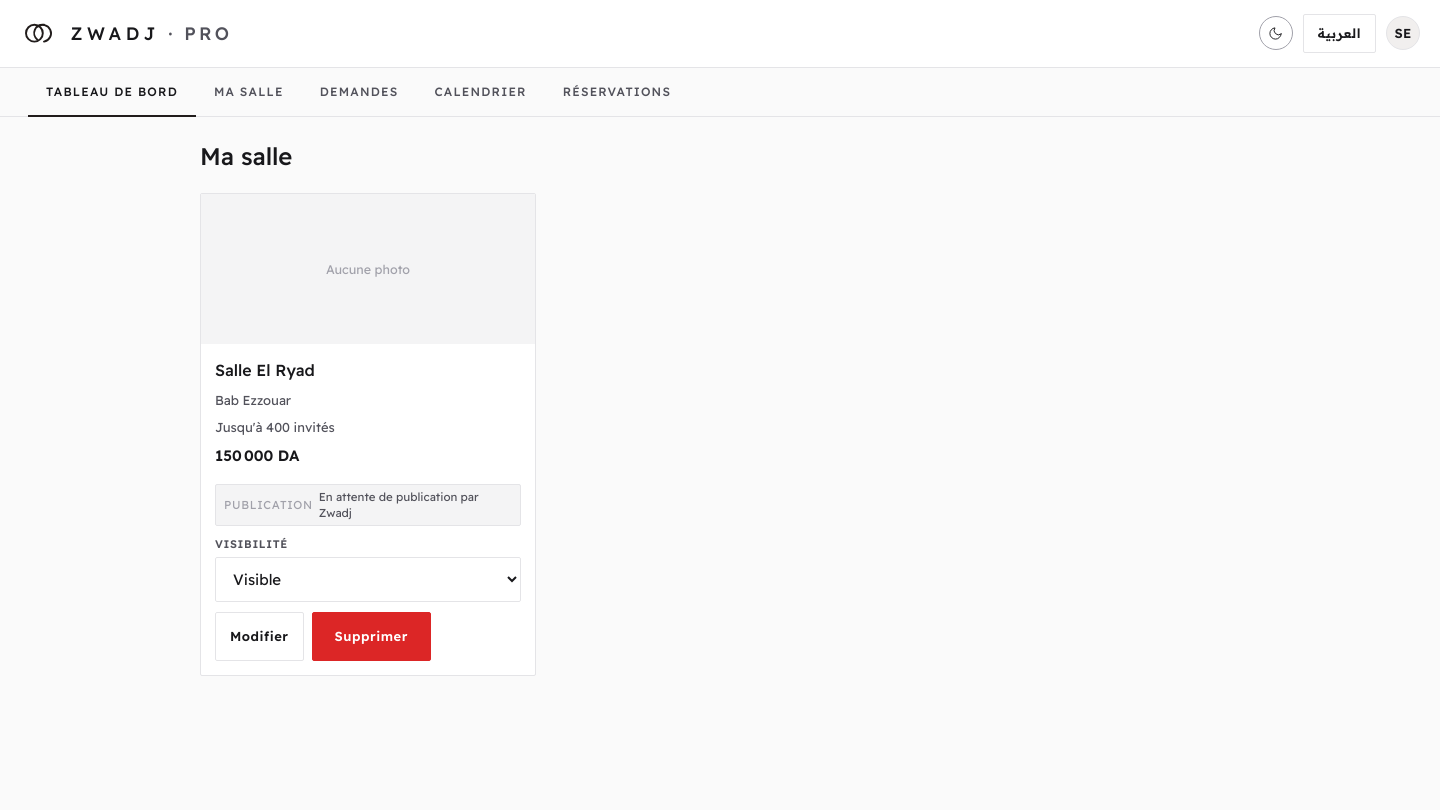
Test: Liste — suppression (soft delete) › annuler ferme le dialogue SANS rien supprimer
Click the button "Supprimer": (371, 637) [312,612,431,661]
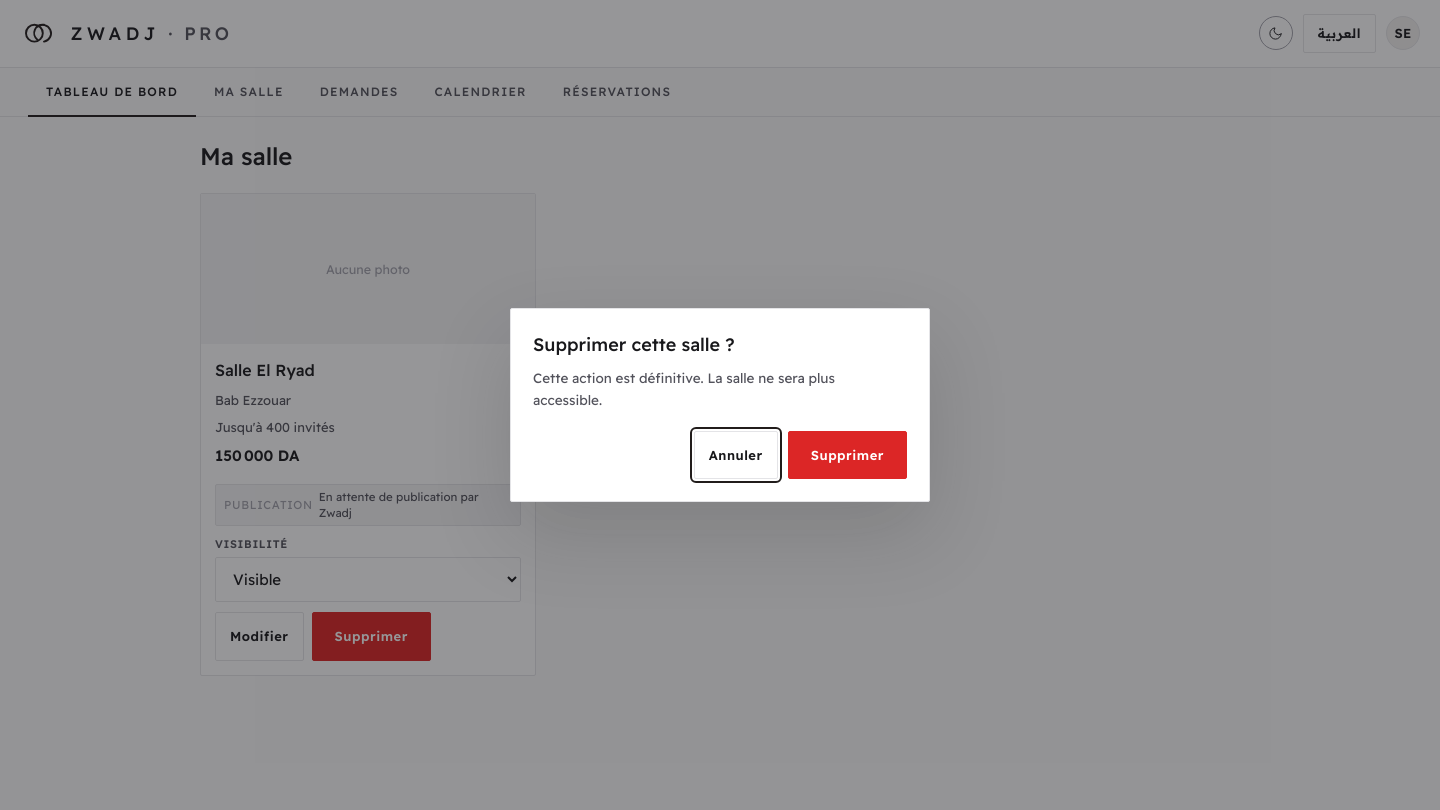
Click the button "Annuler": (736, 455) [694,431,778,479]
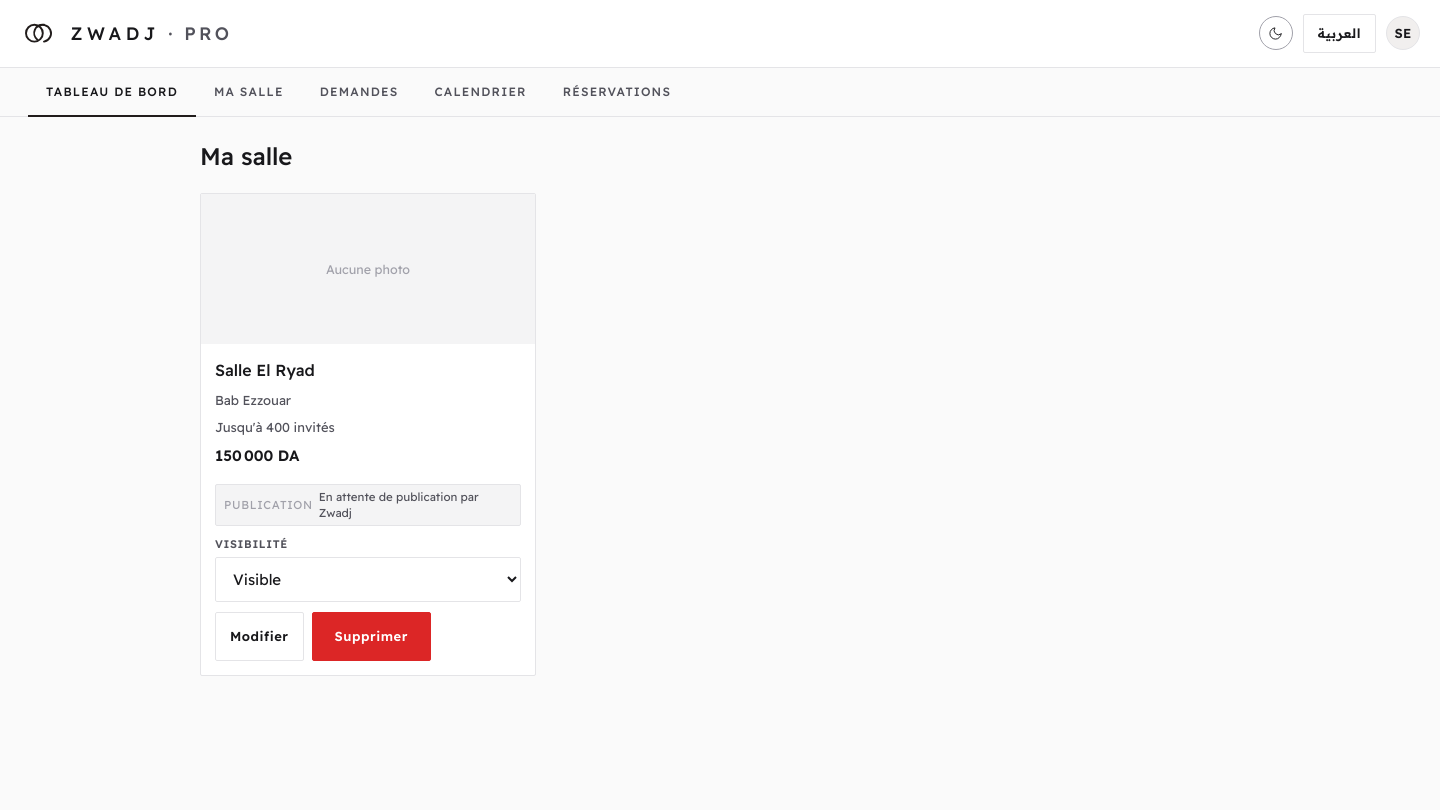
Now the dialog is gone
